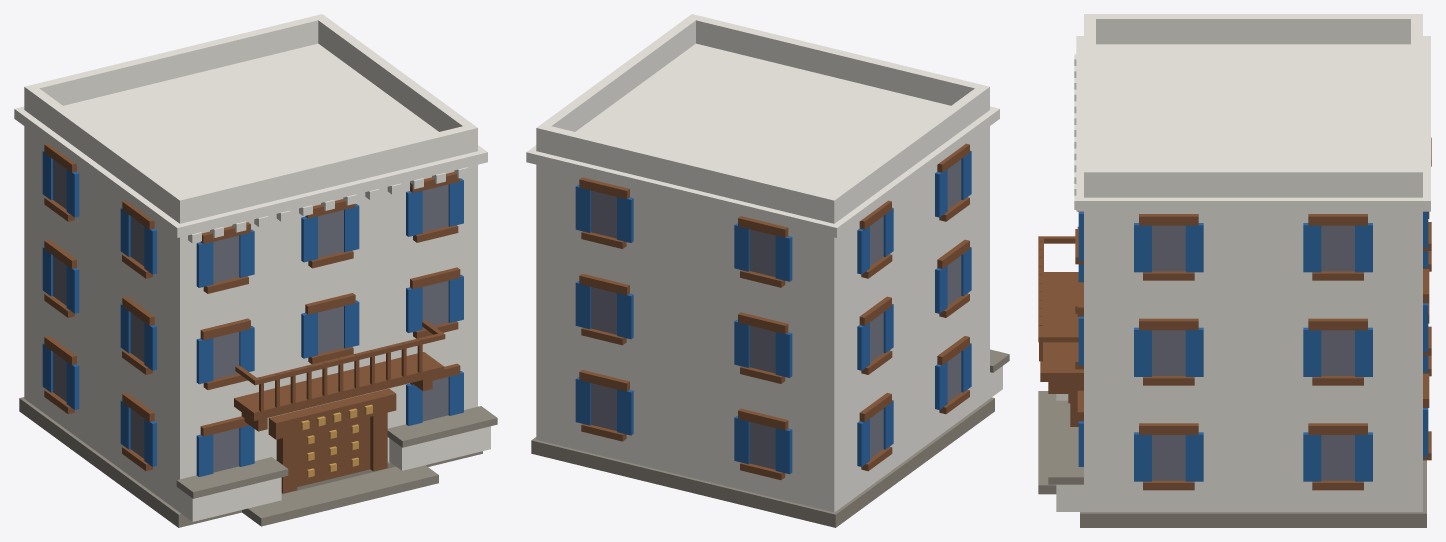
Rendered from house-1x1-3f-swahili-a.glb.
3 views of the same model, side by side, from view 1: azimuth 30°, elevation 25°; view 2: azimuth 150°, elevation 25°; view 3: azimuth 270°, elevation 25° (orthographic). The views are drawn at different scales.
Parts seen in each view (by area): view 1: house-1x1-3f-swahili-a; view 2: house-1x1-3f-swahili-a; view 3: house-1x1-3f-swahili-a.
Part boxes in pixels (x1,y1,x2,y2): house-1x1-3f-swahili-a: [14, 14, 497, 527]; house-1x1-3f-swahili-a: [526, 14, 1009, 527]; house-1x1-3f-swahili-a: [1038, 14, 1431, 527].
Size of the model in its own units: 0.984 by 0.98 by 0.987.
Materials: 1 (1 with a texture image).
